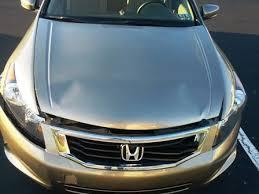Bonnet: (33, 16, 232, 139)
Bumper: (0, 91, 242, 194)
